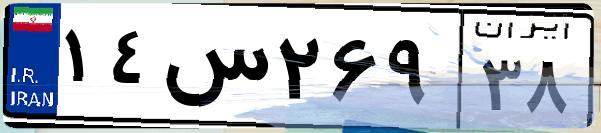1: (57, 26, 110, 100)
2: (270, 28, 330, 110)
3: (475, 38, 525, 113)
4: (110, 28, 158, 98)
6: (330, 28, 385, 110)
8: (525, 38, 570, 115)
9: (385, 28, 445, 110)
س: (158, 20, 270, 120)
